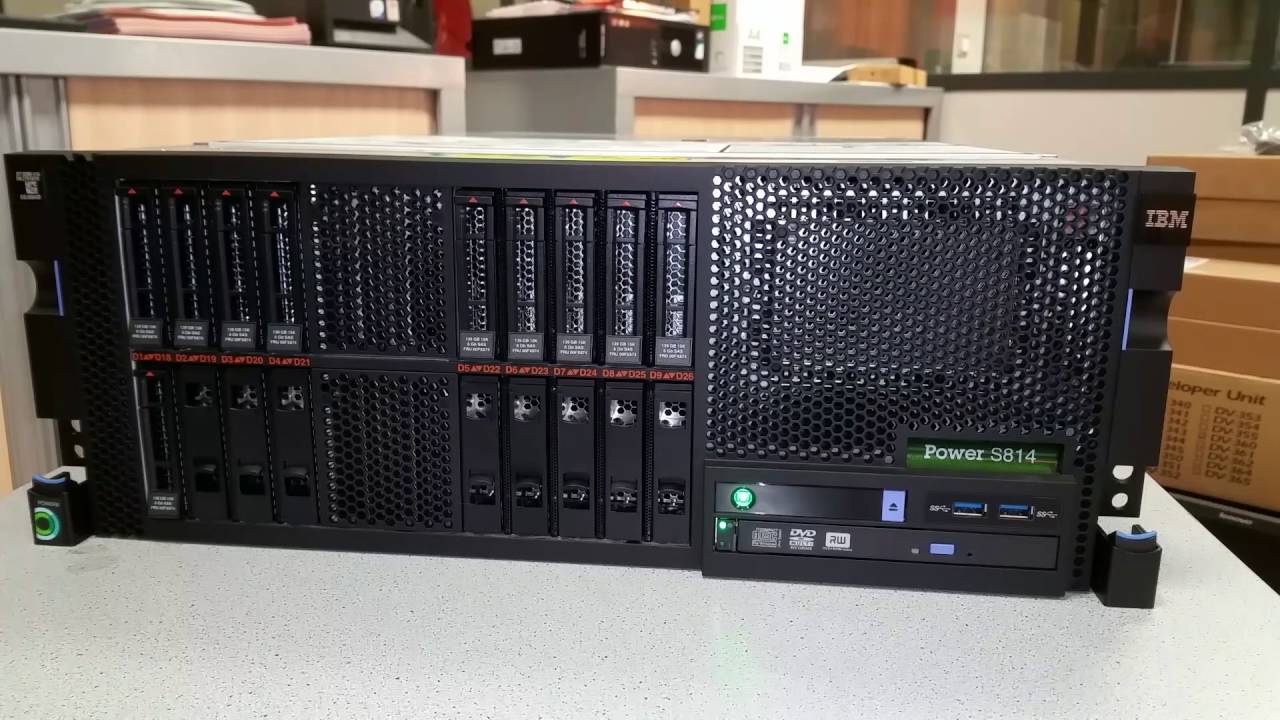ibm-server: (3, 124, 1199, 643)
